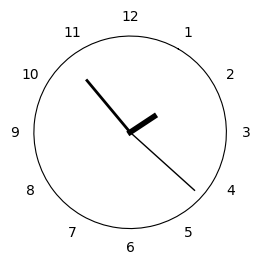12: (122, 10, 139, 22)
circle: (34, 35, 227, 229)
hours: (127, 113, 158, 136)
minutes: (85, 78, 129, 130)
seconds: (132, 134, 195, 190)
